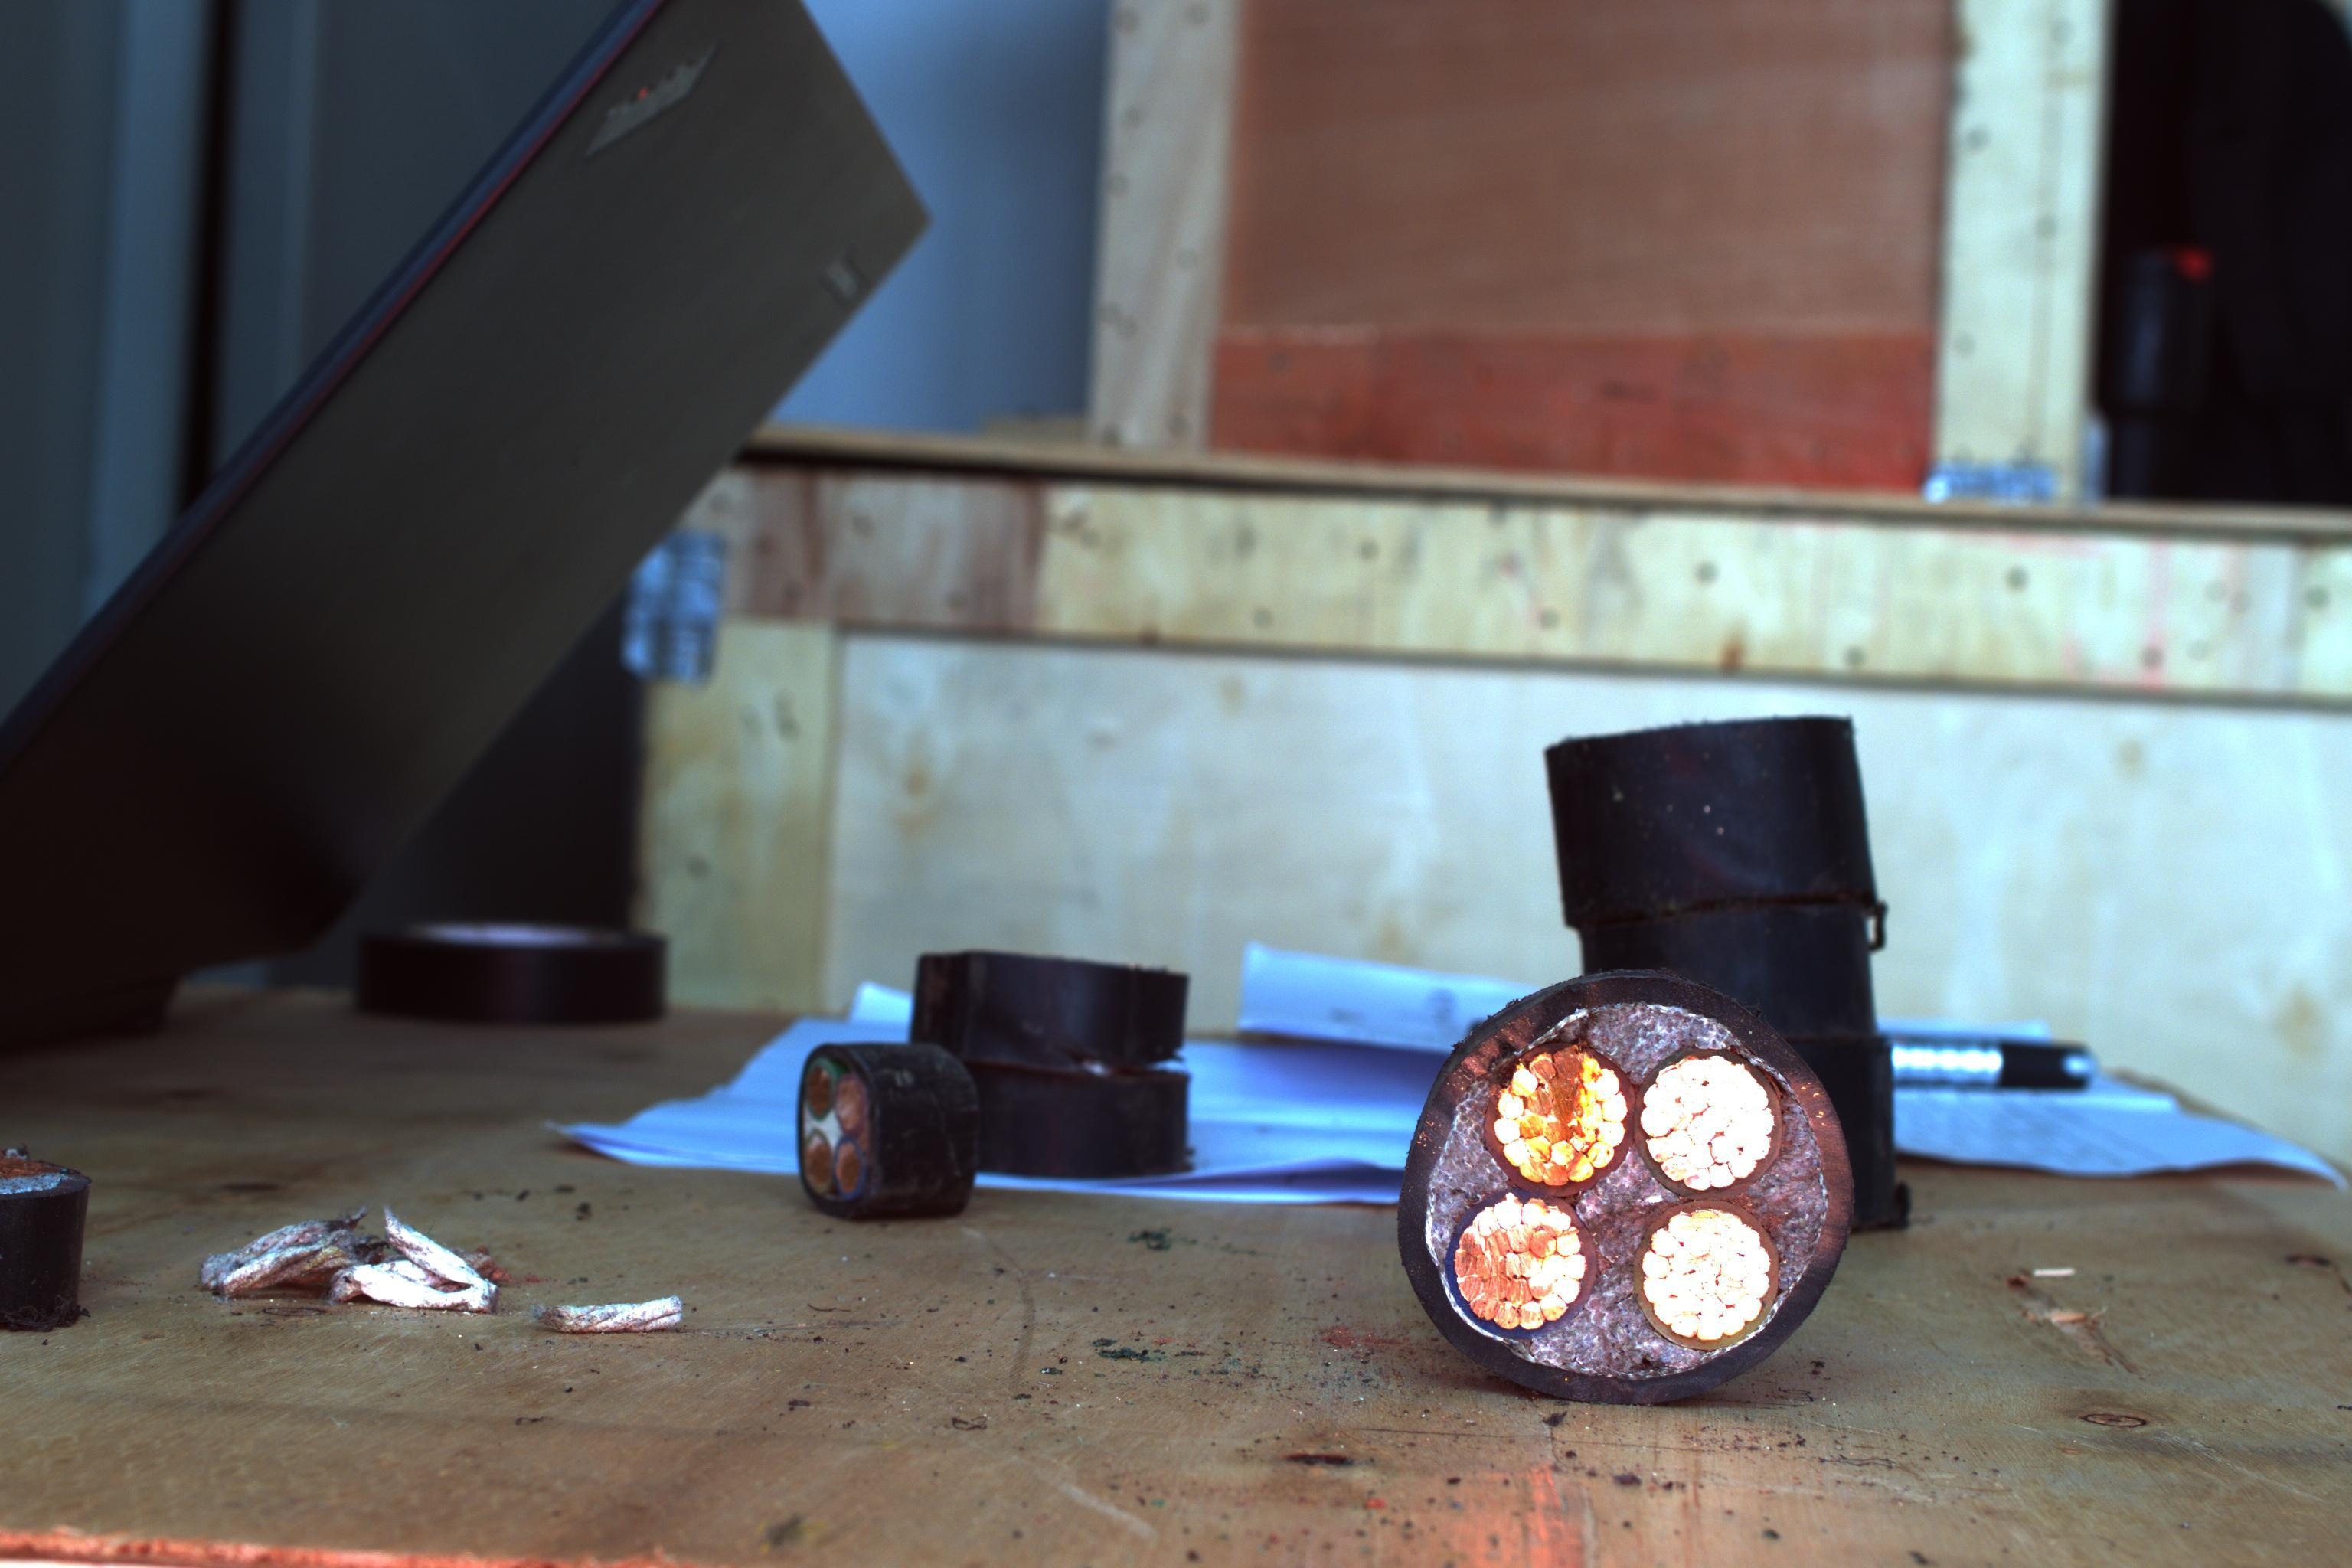YJV_0.6_1kV_4x120: (1396, 971, 1851, 1395)
